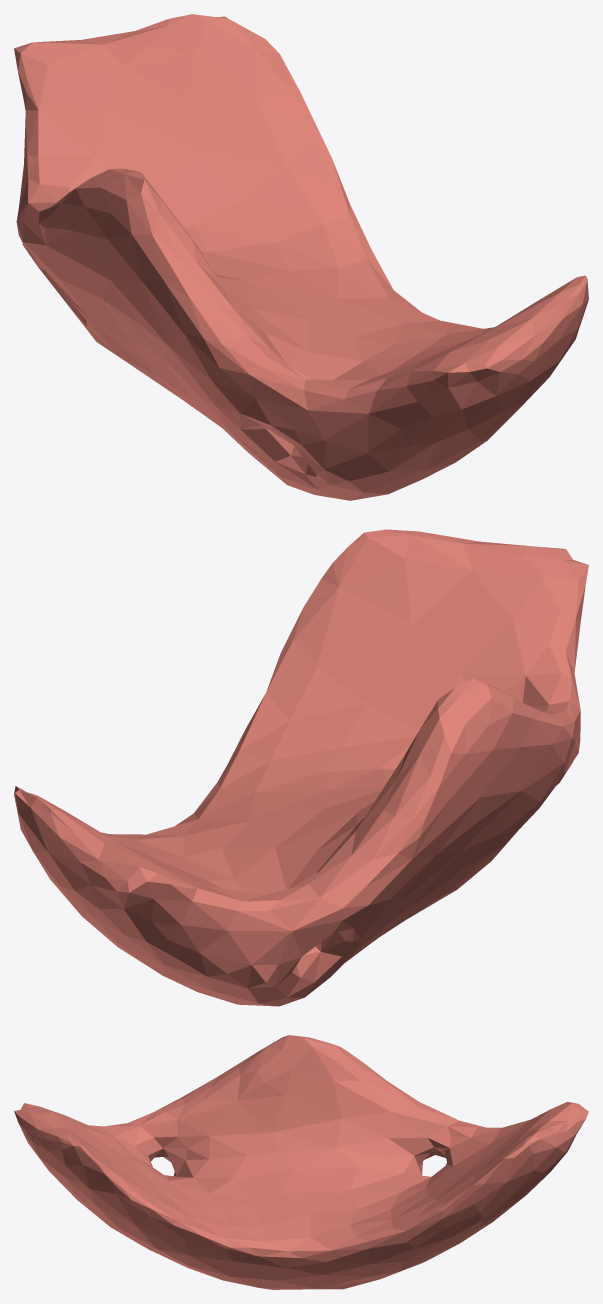
The picture shows the model from 3 angles, top to bottom: view 1: azimuth 30°, elevation 25°; view 2: azimuth 150°, elevation 25°; view 3: azimuth 270°, elevation 25°; orthographic projection. The views are drawn at different scales.
Visible parts, largest first — view 1: 525.obj; view 2: 525.obj; view 3: 525.obj.
Boxes of the visible parts, bbox=[...] form: 525.obj: bbox=[14, 14, 588, 500]; 525.obj: bbox=[14, 529, 588, 1006]; 525.obj: bbox=[14, 1035, 588, 1289].
Bounding box in the file's own units: 744 × 676 × 1763.
